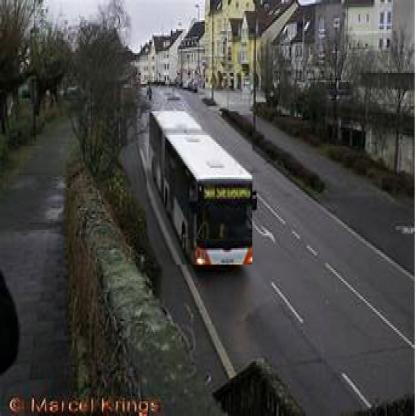bus: (148, 113, 254, 268)
